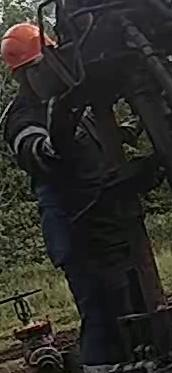gloves: (43, 97, 88, 157)
helmet: (0, 22, 59, 76)
vest: (0, 91, 112, 240)
